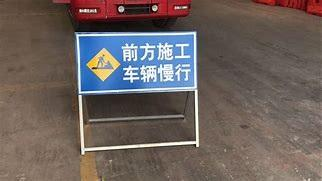sign: (75, 34, 197, 91)
